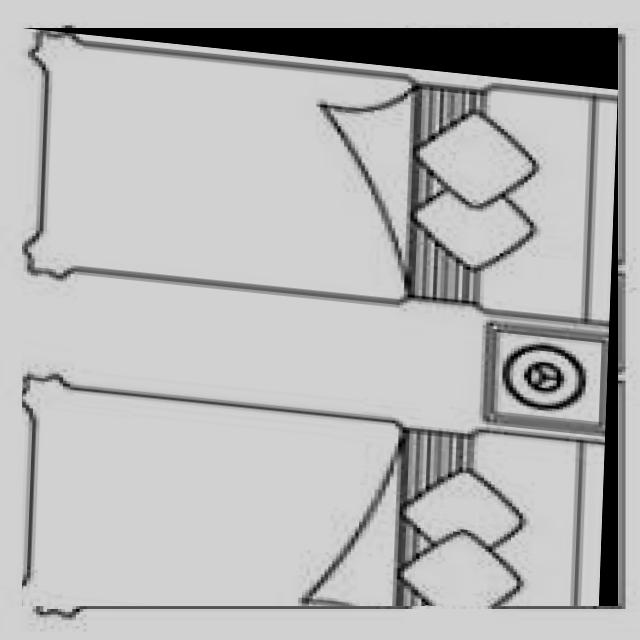bed: (22, 28, 618, 606)
